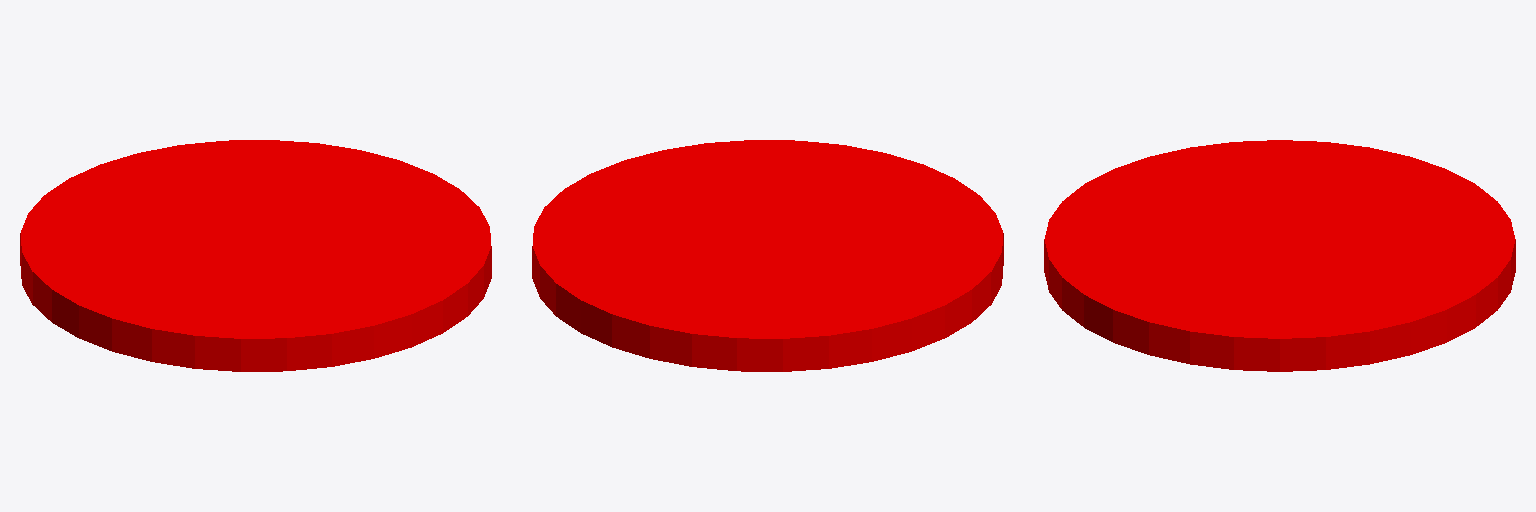
The robot description file, URDF, robot "puck":
<?xml version="1.0" encoding="utf-8"?>
<robot name="puck">
    <material name="red">
        <color rgba="1.0 0.0 0.0 1"/>
    </material>

    <link name="puck_link">
        <inertial>
            <origin xyz="0 0 0.0" rpy="0 0 0"/>
            <mass value="0.01"/>
            <inertia ixx="1" ixy="0" ixz="0" iyy="1" iyz="0" izz="2e-5"/>
        </inertial>
        <visual name="visual">
            <origin xyz="0 0 0.0" rpy="0 0 0"/>
            <geometry>
                <cylinder radius="0.03165" length="0.0049"/>
            </geometry>
            <material name="red"/>
        </visual>
        <collision name="collision">
            <origin xyz="0 0 0.0" rpy="0 0 0"/>
            <geometry>
                <cylinder radius="0.03165" length="0.0049"/>
            </geometry>
            <surface>
                <bounce>
                    <restitution_coefficient>1</restitution_coefficient>
                    <threshold>0</threshold>
                </bounce>
                <friction>
                    <ode>
                        <mu>0</mu>
                        <mu2>0</mu2>
                    </ode>
                </friction>
            </surface>
        </collision>
        <contact>
            <restitution value="0.8"/>
            <lateral_friction value="0.01"/>
            <rolling_friction value="0.0"/>
            <spinning_friction value="0.0"/>
        </contact>
    </link>
    <static>0</static>
</robot>

--- Render facts (derived) ---
3 views of the same robot in one strip: view 1: azimuth 30°, elevation 25°; view 2: azimuth 150°, elevation 25°; view 3: azimuth 270°, elevation 25° (orthographic).
Model puck with 1 links and 0 joints (none), rooted at puck_link, posed all joints at 0.
Links seen in each view (by area): view 1: puck_link; view 2: puck_link; view 3: puck_link.
Boxes of the visible links, <box> form: puck_link: <box>20,140,491,371</box>; puck_link: <box>532,140,1003,371</box>; puck_link: <box>1044,140,1515,371</box>.
Size in the robot's own frame: 0.0633 by 0.0633 by 0.0049 metres.
Geometry: primitives only (box / cylinder / sphere), no mesh files.